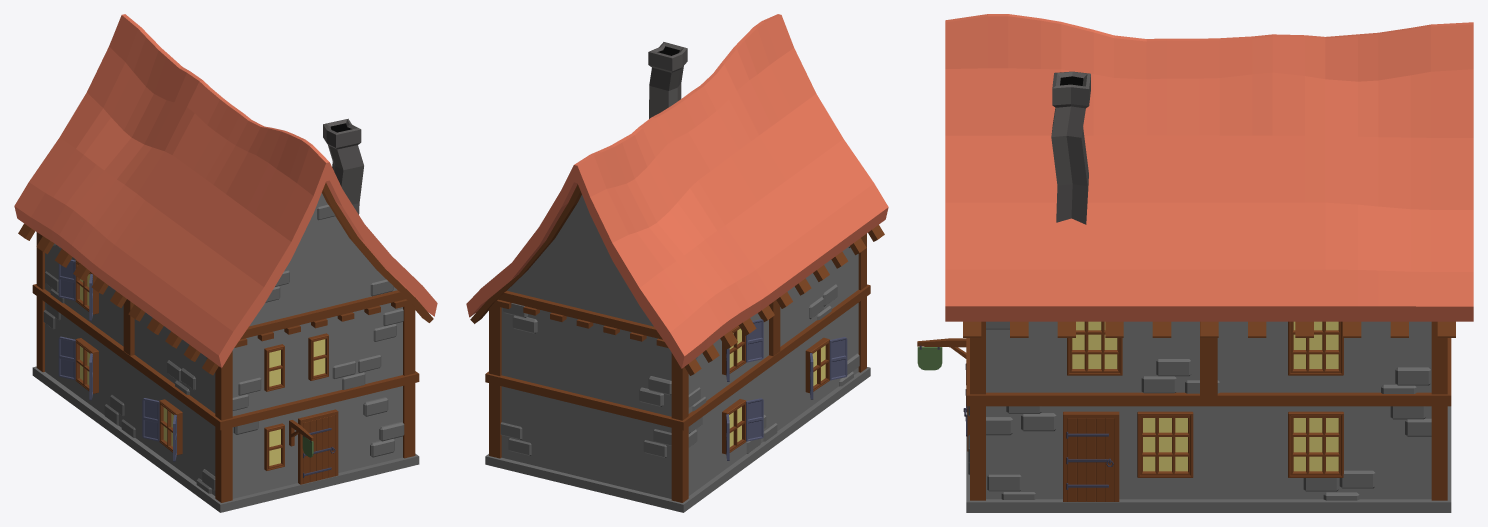
The model's file is House_City_07.fbx.
3 renders of one model, left to right at view 1: azimuth 30°, elevation 25°; view 2: azimuth 150°, elevation 25°; view 3: azimuth 270°, elevation 25°, orthographic. The views are drawn at different scales.
Visible parts, largest first — view 1: Roof_Short_Point.002, Floor_0.007, Floor_0.008, Door_Rectangle.008, Window_4x4.022, Window_4x4.023, Window_4x4.021, Window_2x1.022, Window_2x1.020, Window_2x1.021, Cube.003; view 2: Roof_Short_Point.002, Floor_0.007, Floor_0.008, Window_4x4.023, Window_4x4.022, Window_4x4.021; view 3: Roof_Short_Point.002, Floor_0.007, Floor_0.008, Door_Rectangle.009, Window_6x6.023, Window_6x6.024, Window_6x6.022, Window_6x6.021, Cube.003.
Boxes of the visible parts, x1,y1,x2,y2 form: Roof_Short_Point.002: (14,14,437,375); Floor_0.007: (32,296,419,512); Floor_0.008: (32,232,419,430); Door_Rectangle.008: (298,409,338,484); Window_4x4.022: (58,336,98,400); Window_4x4.023: (142,398,182,461); Window_4x4.021: (58,259,98,320); Window_2x1.022: (264,423,284,470); Window_2x1.020: (264,344,284,391); Window_2x1.021: (308,333,328,380); Cube.003: (289,420,313,457); Roof_Short_Point.002: (466,14,888,375); Floor_0.007: (485,296,870,512); Floor_0.008: (485,233,870,430); Window_4x4.023: (805,337,847,399); Window_4x4.022: (722,398,763,460); Window_4x4.021: (722,319,763,381); Roof_Short_Point.002: (945,14,1473,337); Floor_0.007: (966,406,1451,512); Floor_0.008: (966,321,1451,406); Door_Rectangle.009: (1063,411,1119,501); Window_6x6.023: (1137,411,1193,477); Window_6x6.024: (1288,411,1343,477); Window_6x6.022: (1288,321,1343,375); Window_6x6.021: (1067,321,1122,375); Cube.003: (917,338,966,370).
Size of the model in its own units: 713 by 1022 by 1183.
